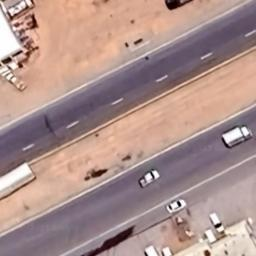pickup: (138, 168, 161, 189)
sedan: (166, 198, 188, 214)
truck: (220, 124, 254, 150), (6, 0, 36, 19)
van: (209, 212, 226, 234)
